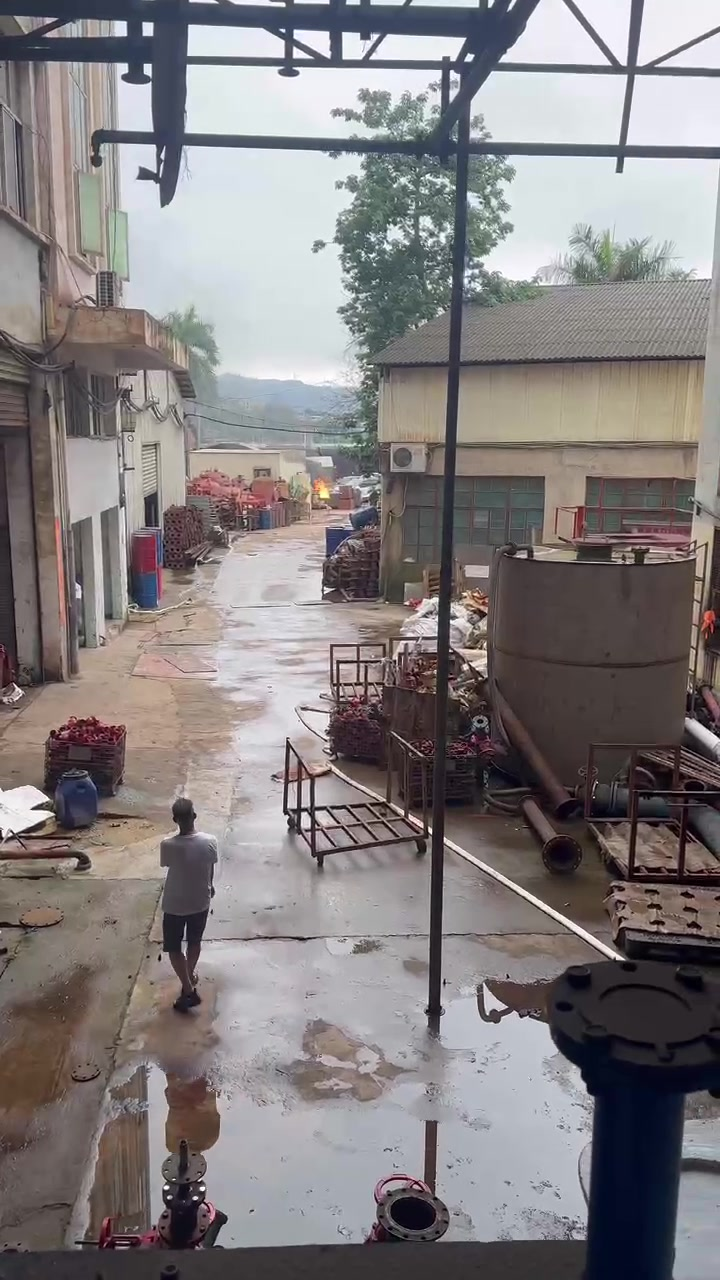fire: (314, 477, 330, 497)
